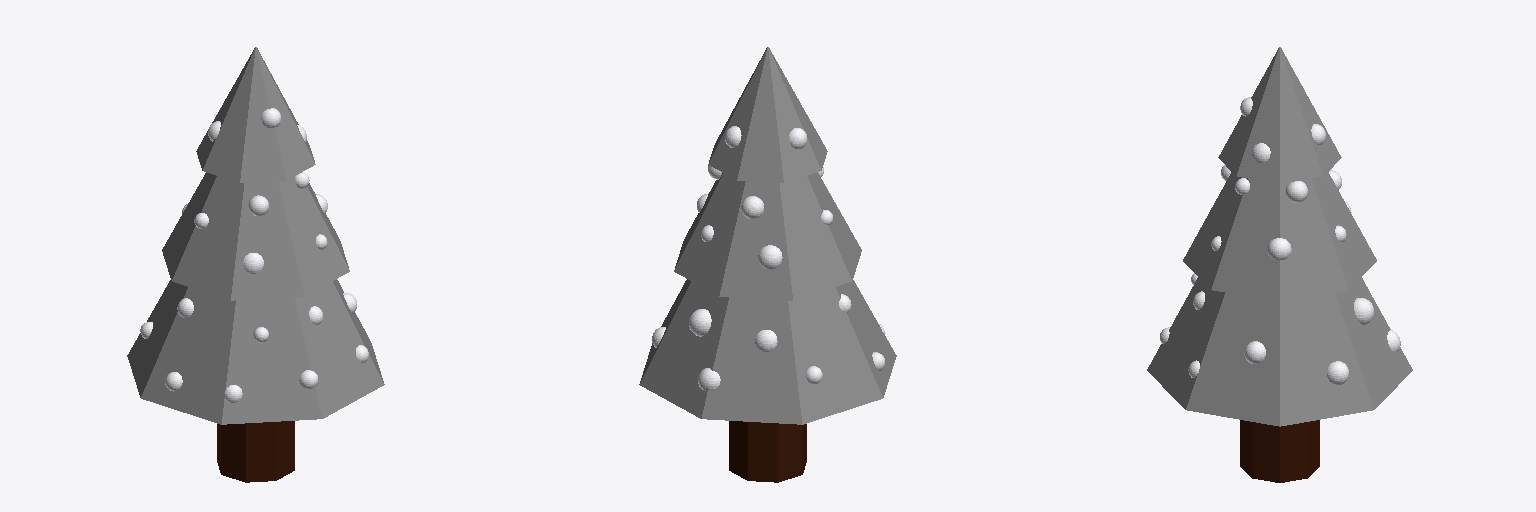
3 views of the same model, side by side, from view 1: azimuth 30°, elevation 25°; view 2: azimuth 150°, elevation 25°; view 3: azimuth 270°, elevation 25° (orthographic).
Visible parts, largest first — view 1: Cone, Cone_001, Cone_002, Cylinder; view 2: Cone, Cone_001, Cone_002, Cylinder; view 3: Cone, Cone_001, Cone_002, Cylinder.
Part boxes in pixels (x1,y1,x2,y2): Cone: (127, 279, 384, 424); Cone_001: (162, 172, 349, 300); Cone_002: (196, 47, 315, 182); Cylinder: (217, 421, 294, 482); Cone: (639, 279, 896, 424); Cone_001: (674, 172, 861, 300); Cone_002: (708, 47, 827, 182); Cylinder: (729, 421, 806, 482); Cone: (1147, 277, 1412, 426); Cone_001: (1183, 172, 1376, 301); Cone_002: (1218, 47, 1341, 183); Cylinder: (1240, 420, 1319, 482).
Size of the model in its own units: 2.27 by 3.96 by 2.27.
Materials: 3 (2 with a texture image).